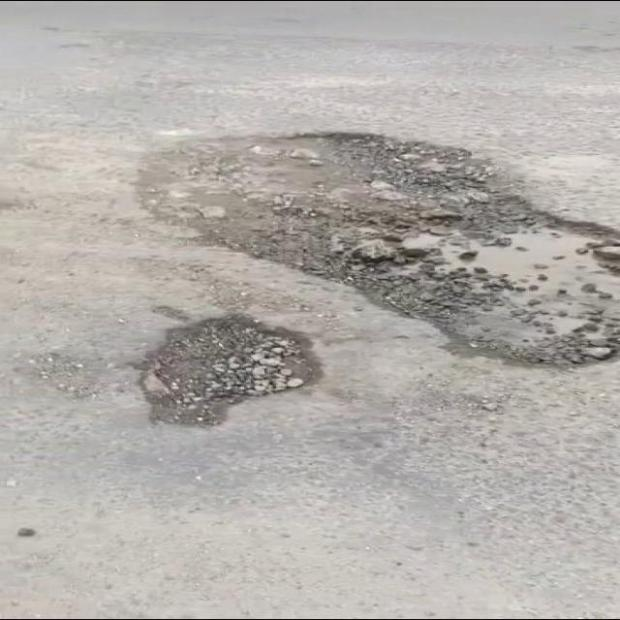lubang: (138, 134, 619, 364), (139, 318, 321, 424)
